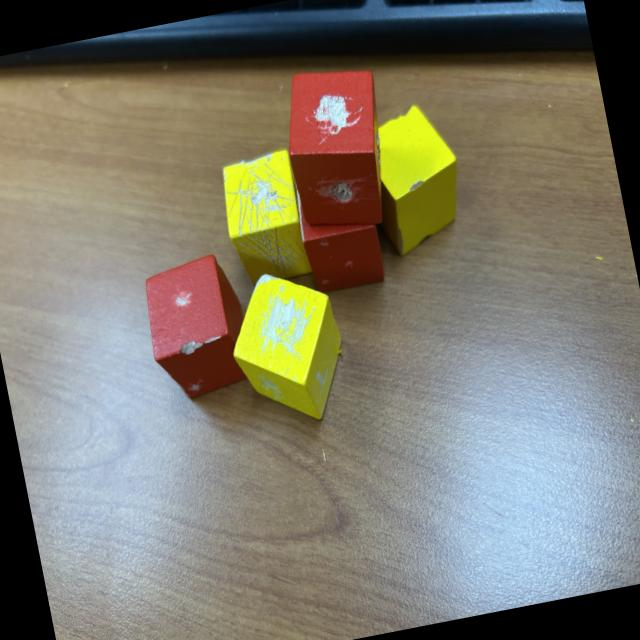broken: (218, 260, 357, 434), (274, 58, 402, 239), (356, 99, 474, 261), (136, 250, 258, 404), (214, 149, 315, 290), (290, 165, 388, 296)
